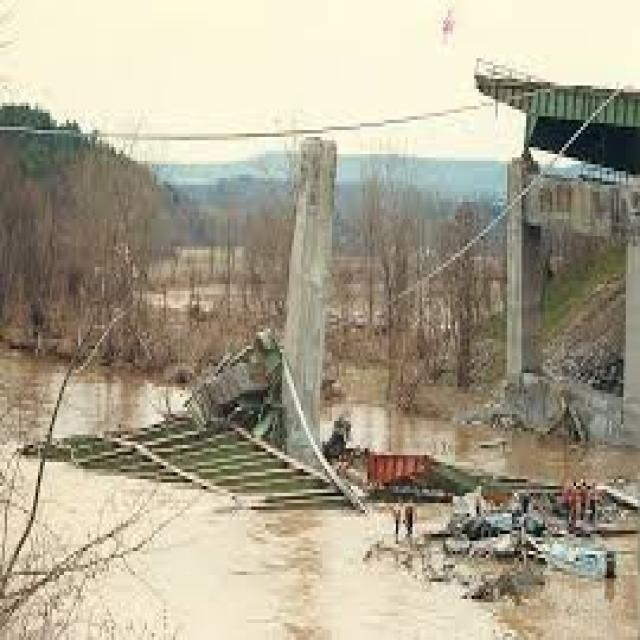bridge collapse: (43, 31, 640, 508)
